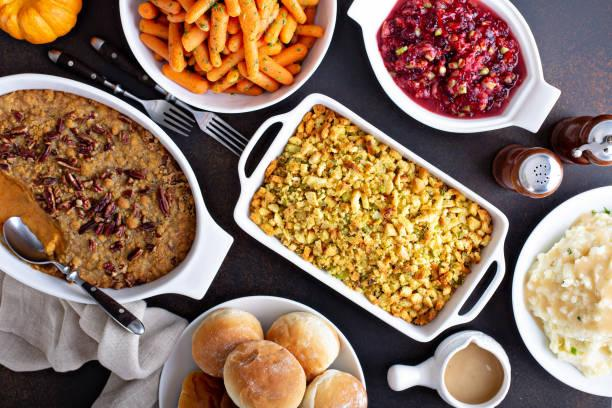Braised Crucian Carp: (232, 90, 508, 338), (5, 73, 233, 308), (349, 0, 558, 135), (117, 0, 328, 116), (158, 294, 365, 408)
